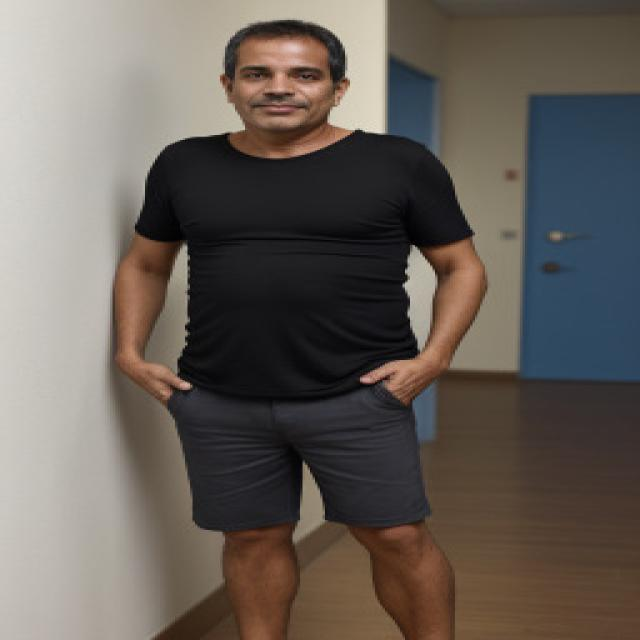Ai human 2: (105, 18, 525, 640)
